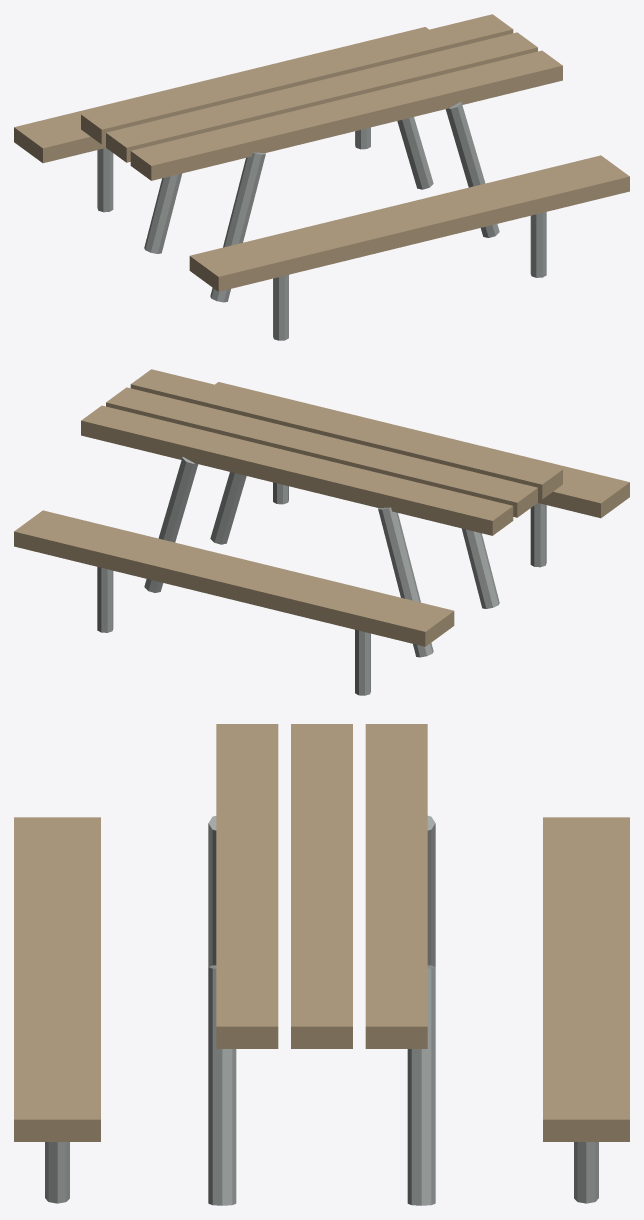
The model's file is allotment-picnic-table.glb.
The picture shows the model from 3 angles, top to bottom: view 1: azimuth 30°, elevation 25°; view 2: azimuth 150°, elevation 25°; view 3: azimuth 270°, elevation 25°; orthographic projection. The views are drawn at different scales.
Visible parts, largest first — view 1: table plank, table leg; view 2: table plank, table leg; view 3: table plank, table leg.
Part boxes in pixels (left/top/right/bottom): table plank: left=14, top=14, right=629, bottom=291; table leg: left=97, top=102, right=546, bottom=340; table plank: left=14, top=369, right=629, bottom=646; table leg: left=97, top=457, right=546, bottom=695; table plank: left=14, top=724, right=629, bottom=1141; table leg: left=45, top=816, right=598, bottom=1205.
Bounding box in the file's own units: 2.3 × 0.8224 × 1.98.
